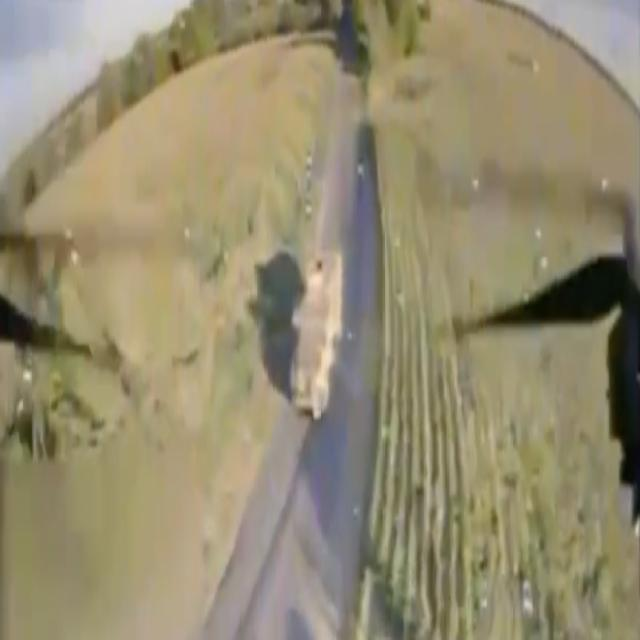vehicle: (288, 245, 344, 424)
